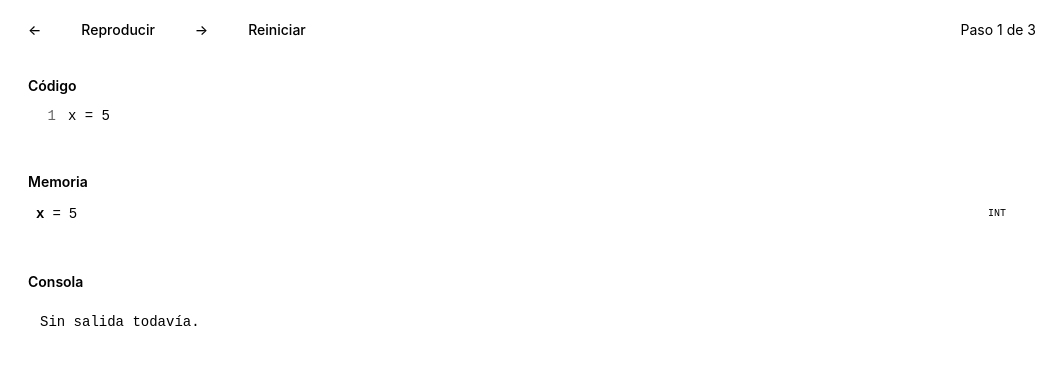
Test: TracePanel › avanza y retrocede entre pasos
Click the button named "siguiente".
click(202, 30)  # box [179,12,224,48]
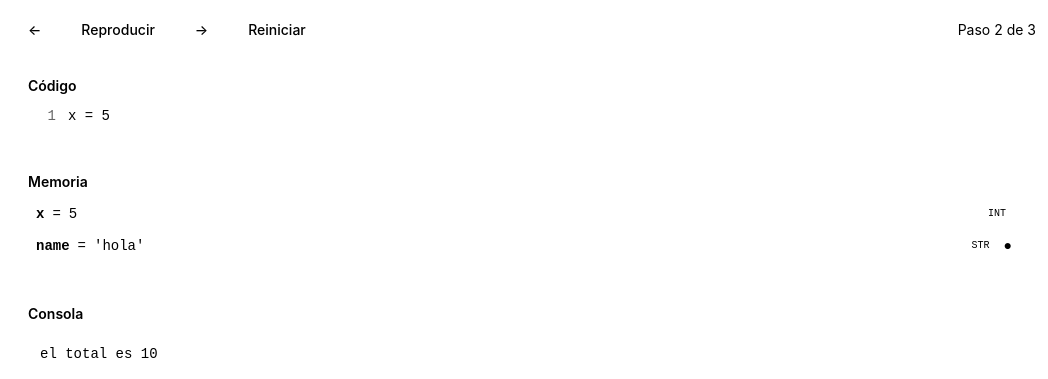
expect the text "Paso 2 de 3" is shown: met, box [958,20,1036,40]
expect the text "el total es 10" is shown: met, box [40,346,158,362]
Click the button named "anterior".
click(35, 30)  # box [12,12,57,48]
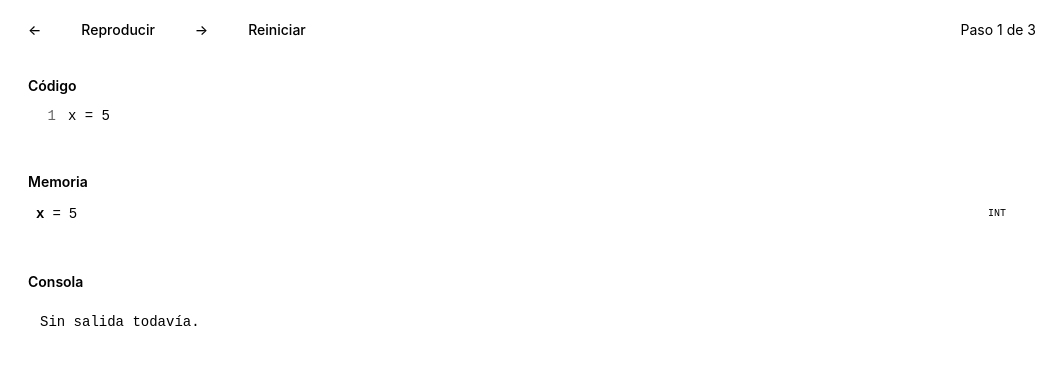
expect the text "Paso 1 de 3" is shown: met, box [960,20,1036,40]
